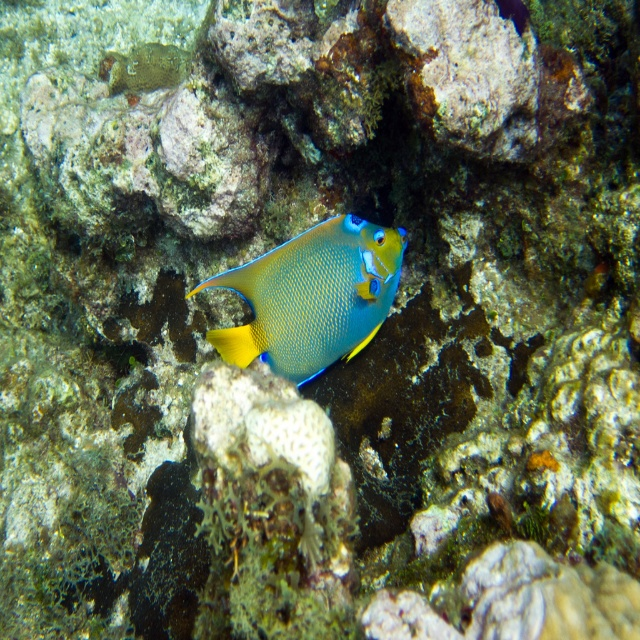Fish: (186, 210, 408, 382)
